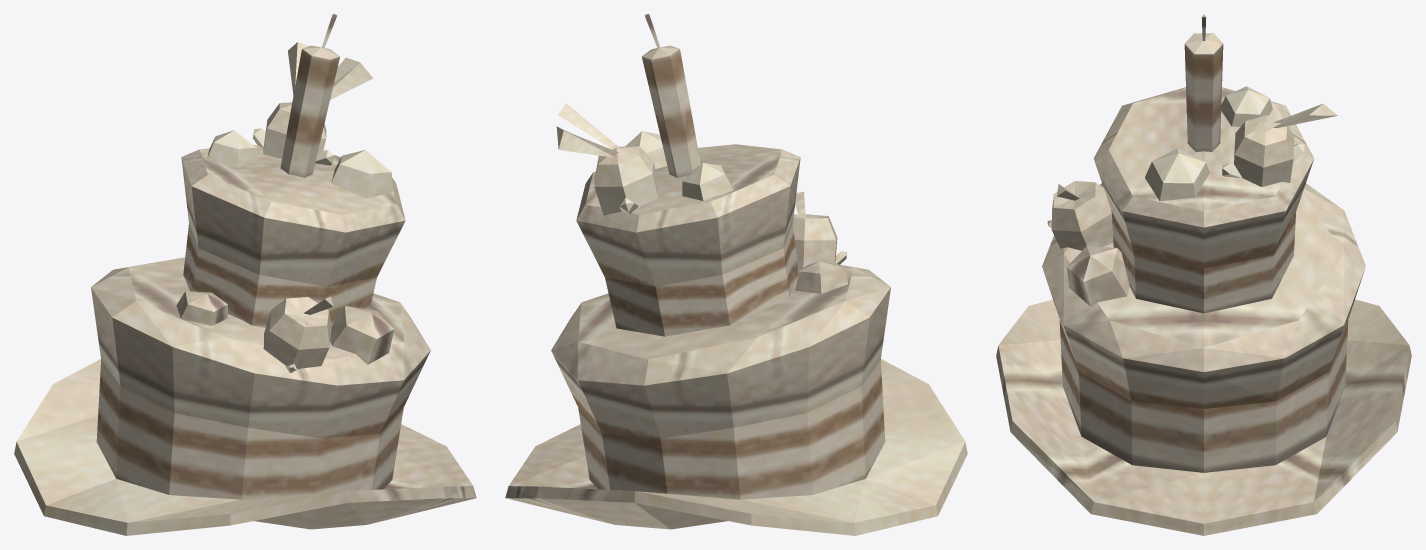
The model's file is Whale_cakeHat.obj.
3 views of the same model, side by side, from view 1: azimuth 30°, elevation 25°; view 2: azimuth 150°, elevation 25°; view 3: azimuth 270°, elevation 25° (orthographic).
Visible parts, largest first — view 1: Whale_cakeHat_tri; view 2: Whale_cakeHat_tri; view 3: Whale_cakeHat_tri.
Boxes of the visible parts, box(x1,y1,x2,y2) form: Whale_cakeHat_tri: box(14, 14, 476, 535); Whale_cakeHat_tri: box(505, 14, 967, 535); Whale_cakeHat_tri: box(996, 14, 1411, 535).
Bounding box in the file's own units: 0.6632 × 0.7379 × 0.5966.
Materials: 1 (1 with a texture image).
